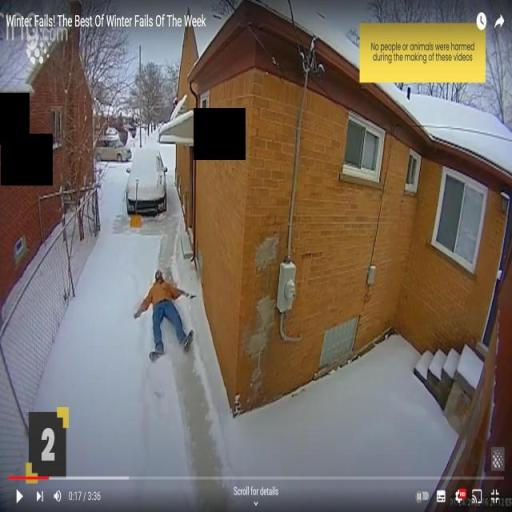Fall: (132, 266, 197, 365)
